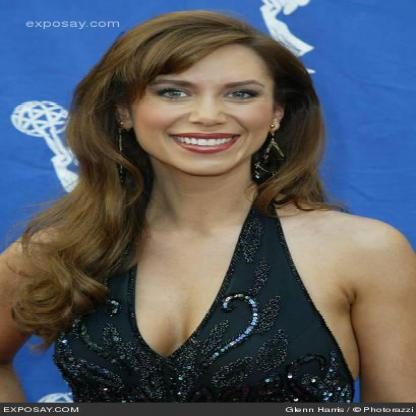long-hair: (54, 175, 338, 211)
